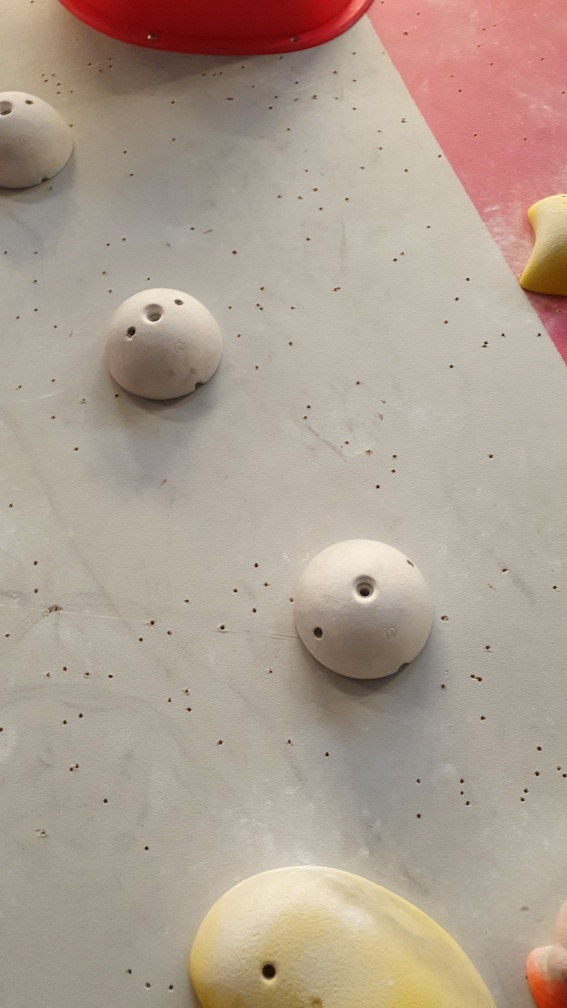Pinch: (513, 191, 567, 296)
Sloper: (287, 537, 436, 686), (104, 287, 228, 405), (1, 85, 79, 195)
